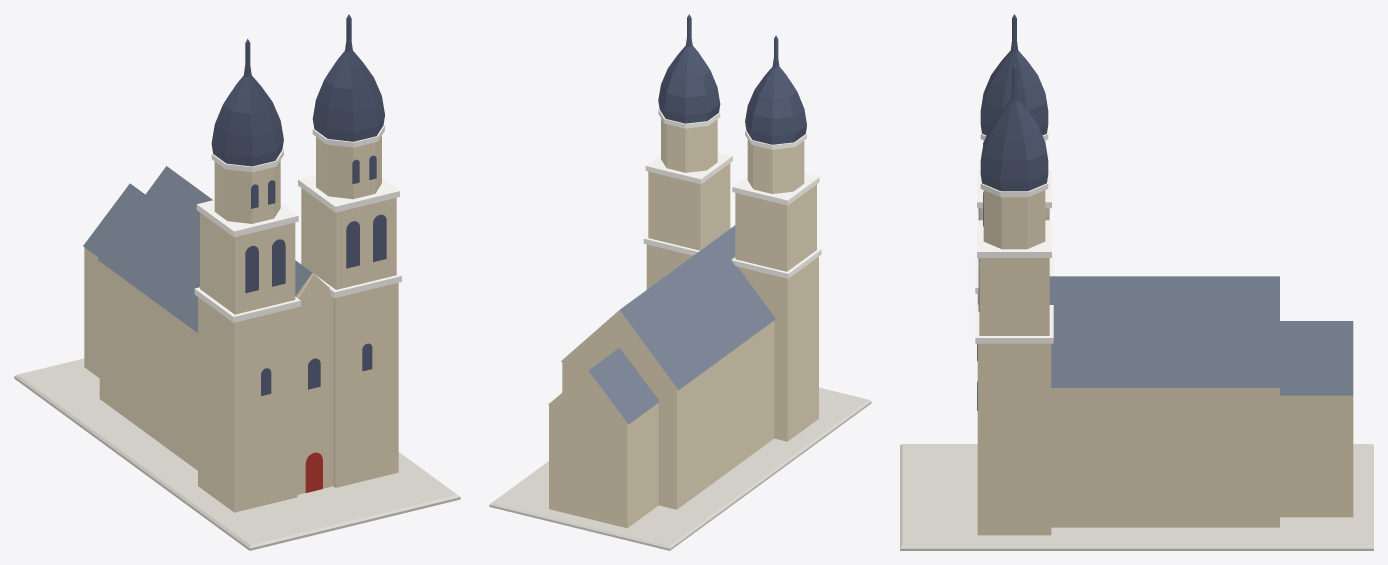
The model's file is zurich.glb.
3 renders of one model, left to right at view 1: azimuth 30°, elevation 25°; view 2: azimuth 150°, elevation 25°; view 3: azimuth 270°, elevation 25°, orthographic. The views are drawn at different scales.
Parts seen in each view (by area): view 1: model; view 2: model; view 3: model.
Part boxes in pixels (bbox=[...]): model: bbox=[14, 14, 460, 550]; model: bbox=[489, 14, 871, 550]; model: bbox=[900, 14, 1373, 550].
Bounding box in the file's own units: 30 × 62.2 × 58.
